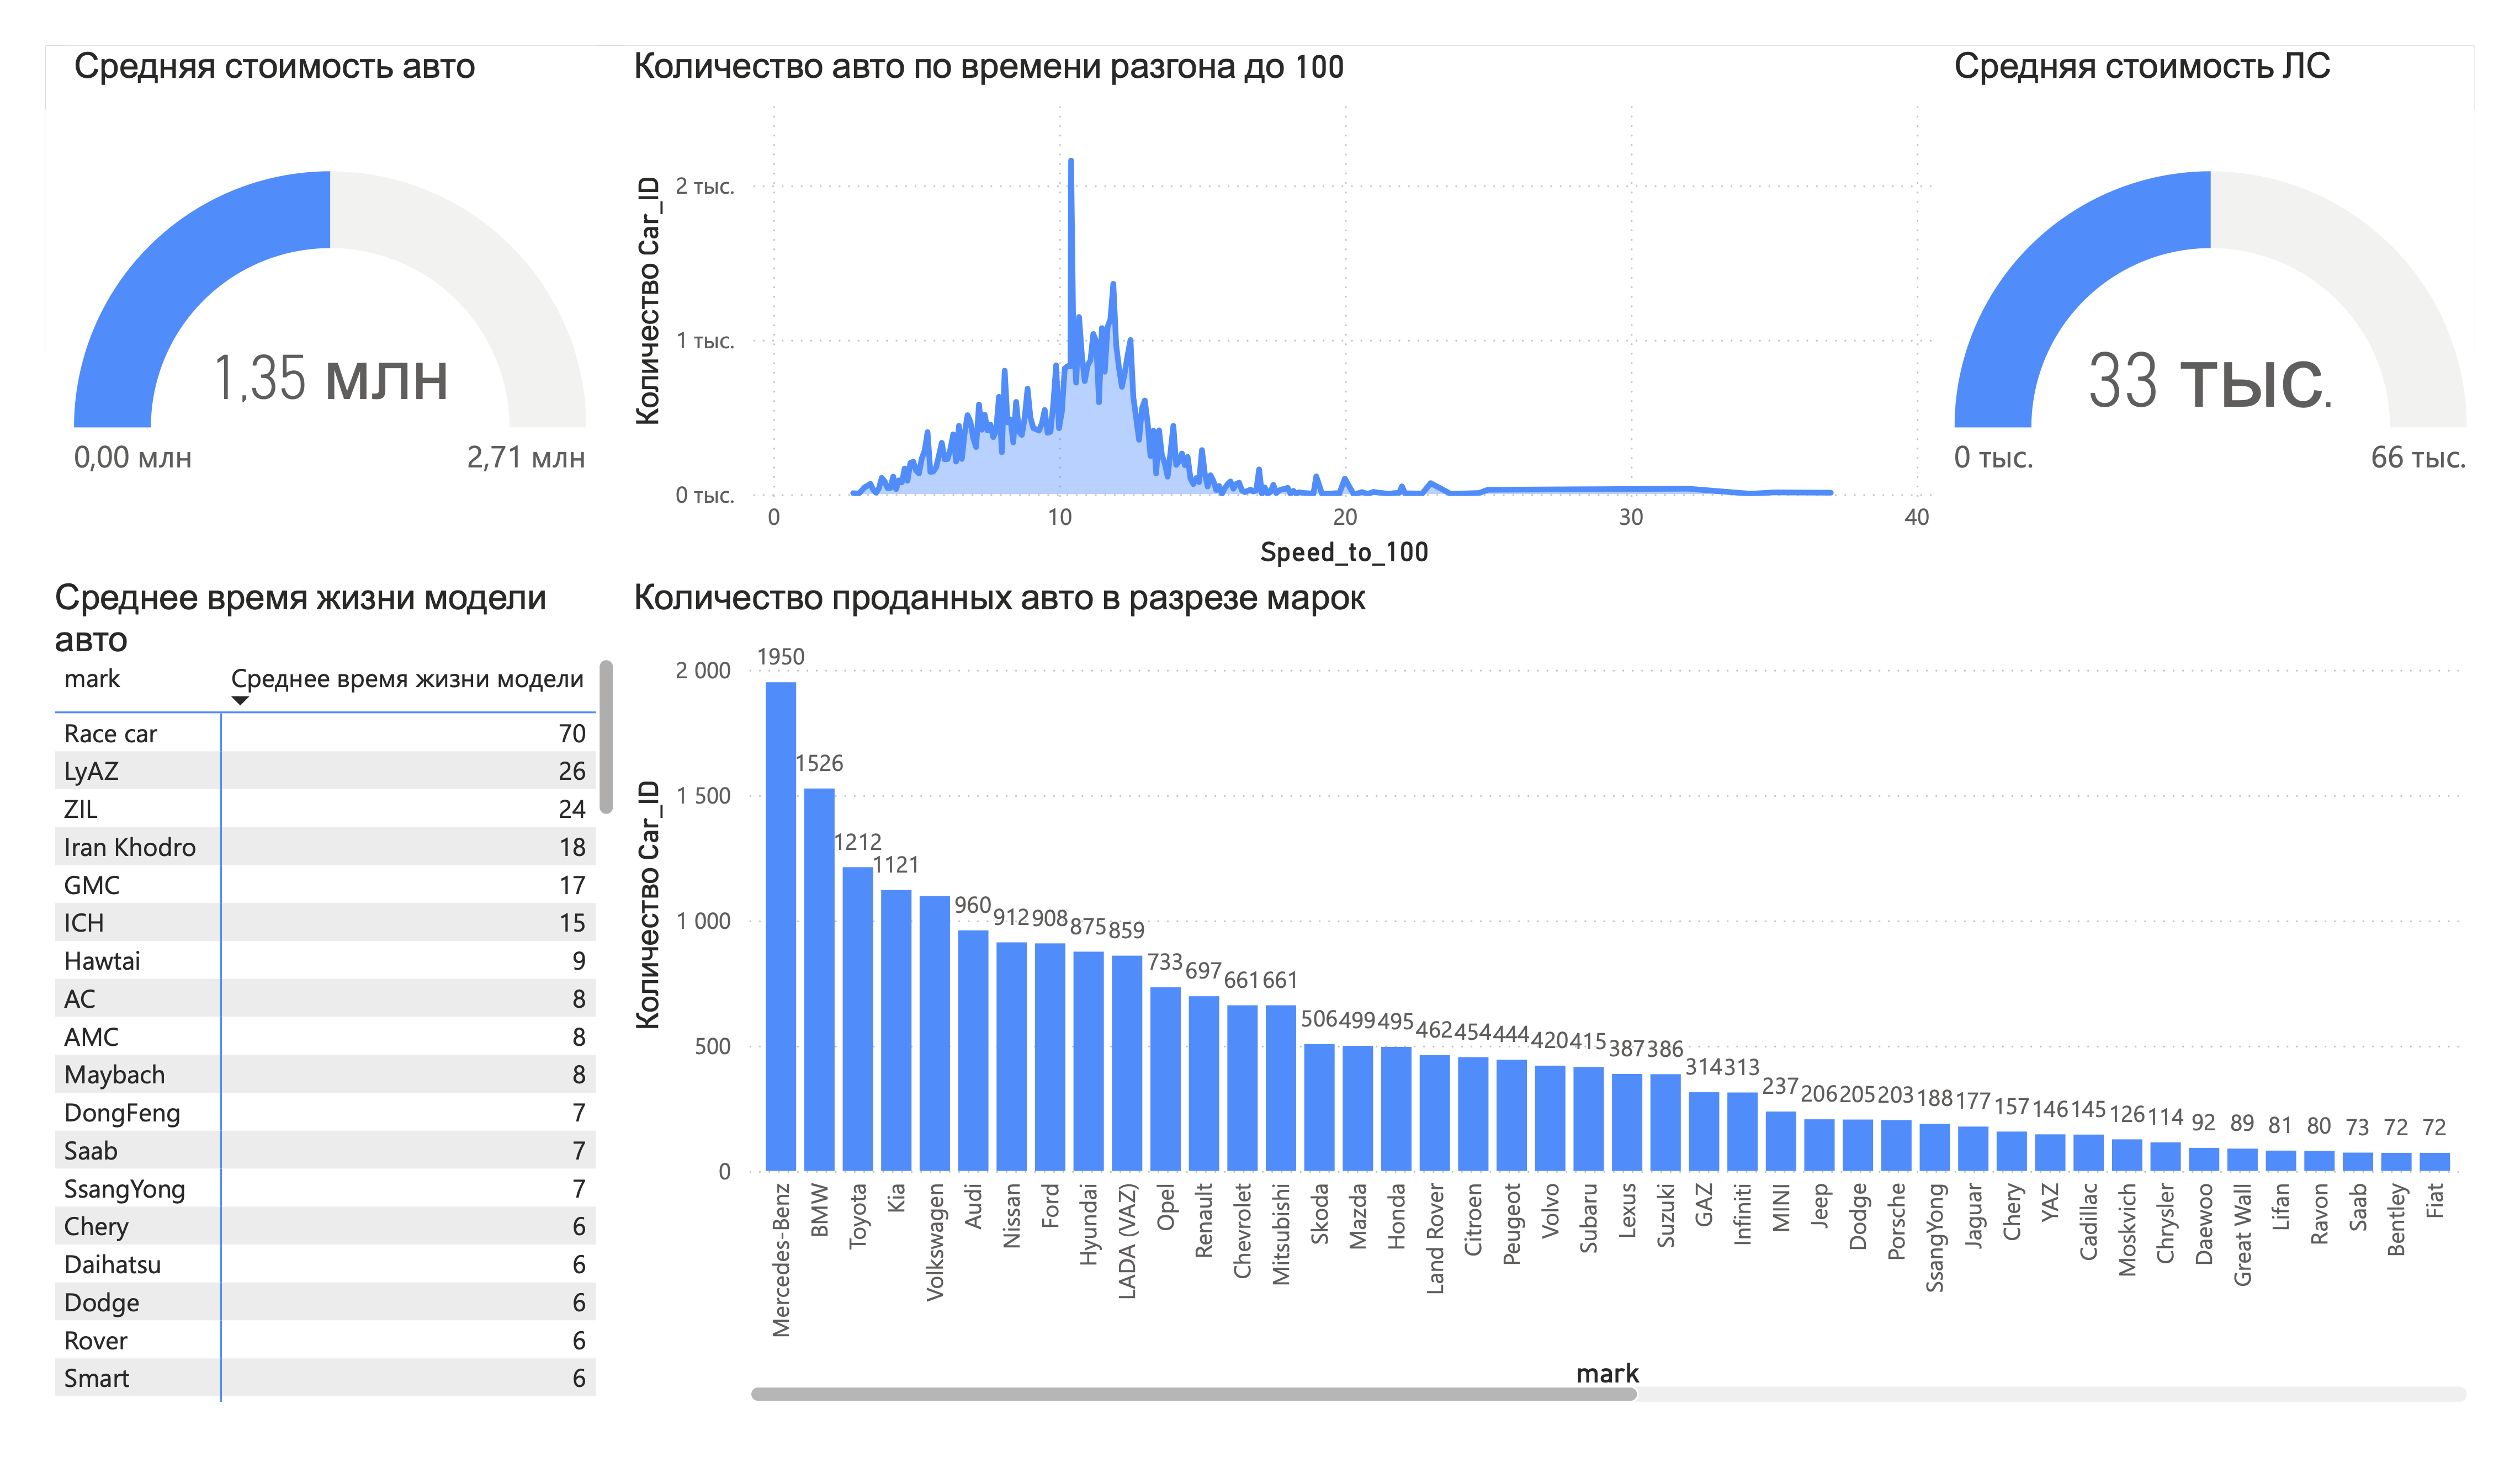

Layout of this report page (visuals, bound fields, positions):
{"tool":"powerbi","page":{"name":"Страница 1","canvas":[1280,720],"ordinal":0},"visuals":[{"type":"gauge","fields":{"Y":["Car_General.Средняя стоимость авто"]},"box":[10,0,280,280],"z":0},{"type":"gauge","fields":{"Y":["Car_General.Средняя стоимость ЛС"]},"box":[1001,0,279.5,279.5],"z":1000},{"type":"pivotTable","title":"Среднее время жизни модели авто","fields":{"Rows":["Car.mark"],"Values":["Car_General.Среднее время жизни модели"]},"box":[0,279.5,305.1,440.8],"z":2000},{"type":"clusteredColumnChart","title":"Количество проданных авто в разрезе марок","fields":{"Category":["Car.mark"],"Y":["CountNonNull(Car_General.Car_ID)"]},"box":[305.1,279.5,975.5,440.8],"z":3000},{"type":"stackedAreaChart","title":"Количество авто по времени разгона до 100","fields":{"Category":["Performance.Speed_to_100"],"Y":["CountNonNull(Car_General.Car_ID)"]},"box":[305.1,0,695.9,279.5],"z":4000}]}

Visuals, with their boxes in screenshot pixels (x1, y1, x2, y2), scaled from the page's 1280x720 canvas onto the 2520x1457 screenshot:
gauge - Car_General.Средняя стоимость авто: pyautogui.locateOnScreen(20, 0, 571, 567)
gauge - Car_General.Средняя стоимость ЛС: pyautogui.locateOnScreen(1971, 0, 2519, 566)
"Среднее время жизни модели авто" pivotTable: pyautogui.locateOnScreen(0, 566, 601, 1456)
"Количество проданных авто в разрезе марок" clusteredColumnChart: pyautogui.locateOnScreen(601, 566, 2519, 1456)
"Количество авто по времени разгона до 100" stackedAreaChart: pyautogui.locateOnScreen(601, 0, 1971, 566)
